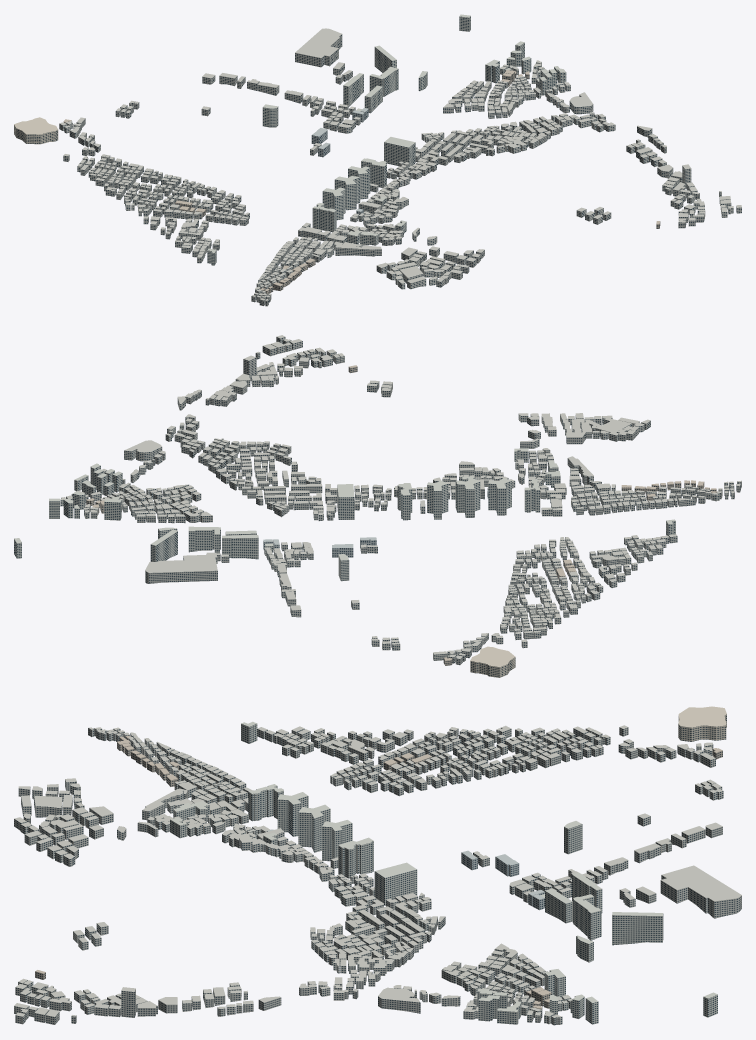
The model's file is city_-8_-4.glb.
3 views of the same model, one above another, from view 1: azimuth 30°, elevation 25°; view 2: azimuth 150°, elevation 25°; view 3: azimuth 270°, elevation 25° (orthographic). The views are drawn at different scales.
Size of the model in its own units: 1039 by 64.61 by 1041.
Materials: 5 (5 with a texture image).
